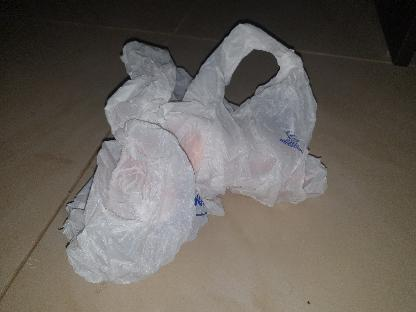Plastic Bag: (54, 15, 332, 290)
